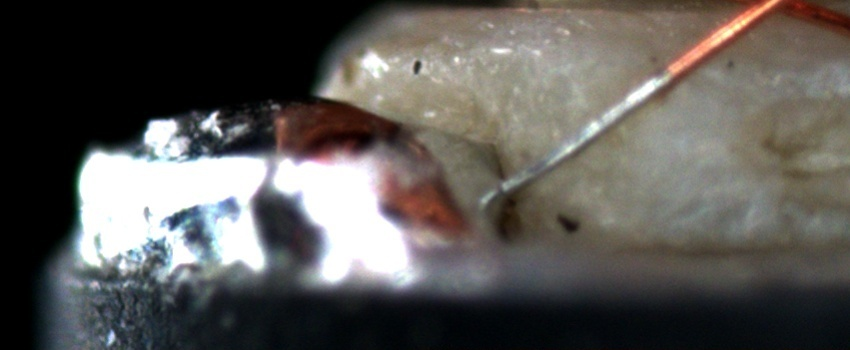CL: (740, 0, 820, 22)
TS: (502, 69, 673, 195)
